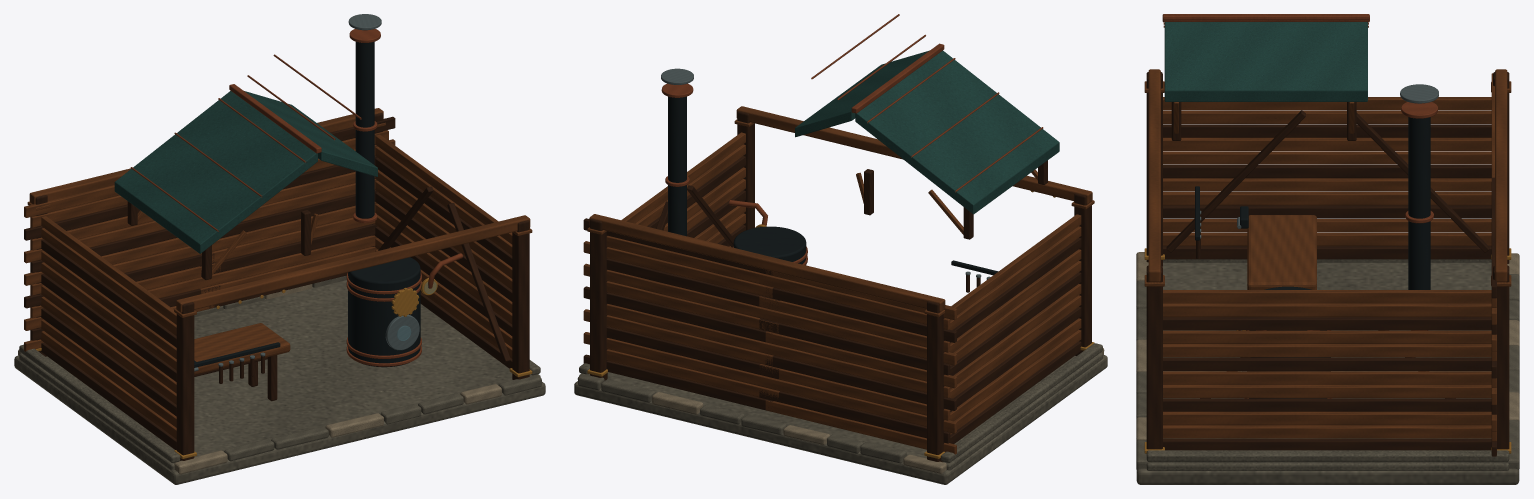
Rendered from asset.glb.
The picture shows the model from 3 angles, left to right: view 1: azimuth 30°, elevation 25°; view 2: azimuth 150°, elevation 25°; view 3: azimuth 270°, elevation 25°; orthographic projection. The views are drawn at different scales.
Visible parts, largest first — view 1: MaterialBatch_Quarter-sawn_oak, MaterialBatch_Mottled_fieldstone, MaterialBatch_Smoke-stained_walnut, MaterialBatch_Oxidised_copper_roofing, MaterialBatch_Forged_blue-black_iron, MaterialBatch_Weathered_copper, MaterialBatch_Warm_lime_mortar, MaterialBatch_Brushed_steel, MaterialBatch_Aged_brass; view 2: MaterialBatch_Quarter-sawn_oak, MaterialBatch_Smoke-stained_walnut, MaterialBatch_Oxidised_copper_roofing, MaterialBatch_Mottled_fieldstone, MaterialBatch_Forged_blue-black_iron, MaterialBatch_Weathered_copper, MaterialBatch_Warm_lime_mortar; view 3: MaterialBatch_Quarter-sawn_oak, MaterialBatch_Smoke-stained_walnut, MaterialBatch_Mottled_fieldstone, MaterialBatch_Oxidised_copper_roofing, MaterialBatch_Forged_blue-black_iron, MaterialBatch_Weathered_copper, MaterialBatch_Warm_lime_mortar, MaterialBatch_Brushed_steel.
Part boxes in pixels (x1,y1,x2,y2): MaterialBatch_Quarter-sawn_oak: [24, 108, 532, 439]; MaterialBatch_Mottled_fieldstone: [14, 275, 545, 484]; MaterialBatch_Smoke-stained_walnut: [24, 113, 529, 460]; MaterialBatch_Oxidised_copper_roofing: [114, 91, 377, 253]; MaterialBatch_Forged_blue-black_iron: [194, 41, 420, 367]; MaterialBatch_Weathered_copper: [130, 29, 462, 366]; MaterialBatch_Warm_lime_mortar: [18, 284, 501, 474]; MaterialBatch_Brushed_steel: [194, 14, 419, 371]; MaterialBatch_Aged_brass: [36, 278, 532, 458]; MaterialBatch_Quarter-sawn_oak: [583, 106, 1094, 454]; MaterialBatch_Smoke-stained_walnut: [583, 111, 1091, 462]; MaterialBatch_Oxidised_copper_roofing: [795, 50, 1059, 214]; MaterialBatch_Mottled_fieldstone: [574, 343, 1107, 484]; MaterialBatch_Forged_blue-black_iron: [668, 96, 998, 275]; MaterialBatch_Weathered_copper: [661, 14, 1043, 265]; MaterialBatch_Warm_lime_mortar: [652, 348, 1104, 473]; MaterialBatch_Quarter-sawn_oak: [1144, 69, 1511, 441]; MaterialBatch_Smoke-stained_walnut: [1146, 72, 1509, 456]; MaterialBatch_Mottled_fieldstone: [1136, 259, 1519, 484]; MaterialBatch_Oxidised_copper_roofing: [1164, 22, 1367, 101]; MaterialBatch_Forged_blue-black_iron: [1195, 117, 1430, 398]; MaterialBatch_Weathered_copper: [1162, 14, 1438, 398]; MaterialBatch_Warm_lime_mortar: [1136, 252, 1519, 441]; MaterialBatch_Brushed_steel: [1200, 84, 1438, 371].
Size of the model in its own units: 25.5 by 20.46 by 19.25.
10 materials, 10 textured.
